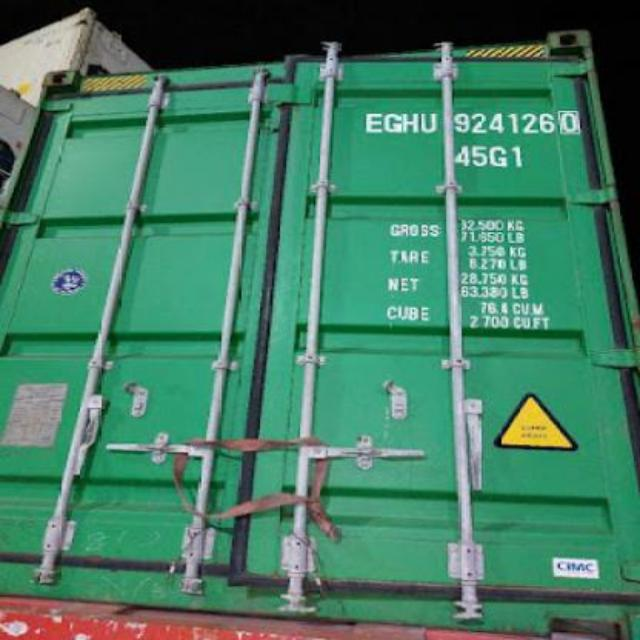0: (560, 108, 578, 130)
1: (504, 108, 522, 134)
2: (522, 108, 538, 136), (470, 109, 486, 135)
4: (490, 108, 508, 136)
6: (540, 105, 554, 138)
9: (456, 112, 469, 134)
E: (358, 105, 384, 135)
G: (382, 106, 402, 138)
H: (402, 112, 420, 136)
U: (418, 107, 439, 137)
